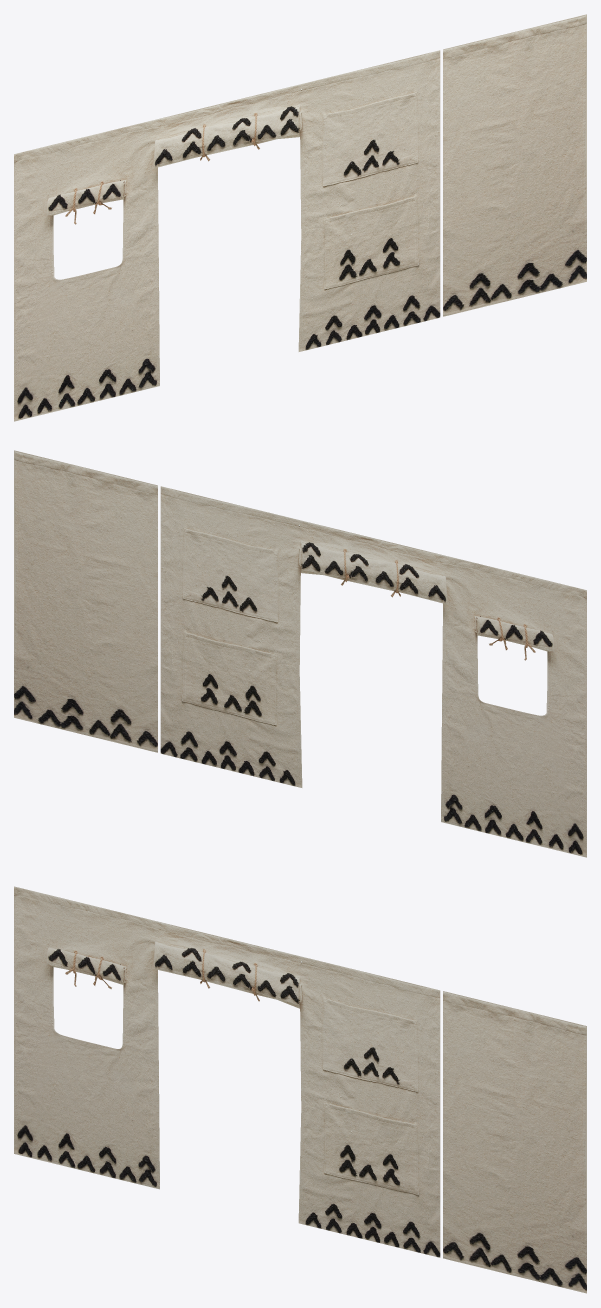
The picture shows the model from 3 angles, top to bottom: view 1: azimuth 30°, elevation 25°; view 2: azimuth 150°, elevation 25°; view 3: azimuth 330°, elevation 25°; orthographic projection.
Visible parts, largest first — view 1: dob11, dob10; view 2: dob11, dob10; view 3: dob11, dob10.
Part boxes in pixels (x1,y1,x2,y2): dob11: (14, 50, 440, 421); dob10: (443, 14, 586, 316); dob11: (160, 486, 586, 857); dob10: (14, 450, 157, 752); dob11: (14, 886, 440, 1257); dob10: (443, 991, 586, 1293).
Size of the model in its own units: 1.99 by 0.8875 by 2.99e-06.
Materials: 2 (2 with a texture image).
